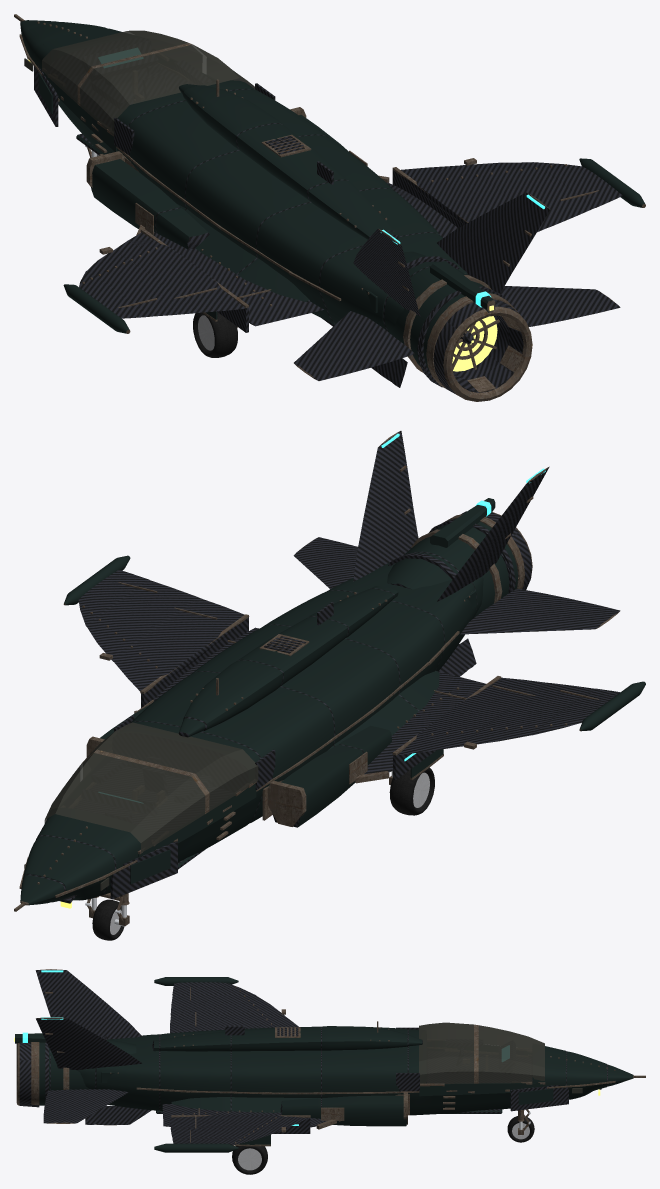
The picture shows the model from 3 angles, top to bottom: view 1: azimuth 30°, elevation 25°; view 2: azimuth 150°, elevation 25°; view 3: azimuth 270°, elevation 25°; orthographic projection. The views are drawn at different scales.
Visible parts, largest first — view 1: kb3_core, kb3_wing_r, kb3_wing_l, kb3_tail_r, kb3_tail_l, kb3_gear_down; view 2: kb3_core, kb3_wing_r, kb3_wing_l, kb3_tail_r, kb3_tail_l, kb3_gear_down; view 3: kb3_core, kb3_tail_r, kb3_wing_l, kb3_wing_r, kb3_tail_l, kb3_gear_down.
Boxes of the visible parts, x1,y1,x2,y2 form: kb3_core: (14, 14, 532, 401); kb3_wing_r: (392, 158, 645, 232); kb3_wing_l: (63, 228, 248, 333); kb3_tail_r: (437, 192, 620, 326); kb3_tail_l: (294, 229, 420, 380); kb3_gear_down: (85, 145, 237, 357); kb3_core: (14, 498, 532, 911); kb3_wing_r: (63, 555, 249, 707); kb3_wing_l: (392, 676, 645, 780); kb3_tail_r: (293, 431, 418, 589); kb3_tail_l: (437, 466, 620, 634); kb3_gear_down: (85, 749, 443, 940); kb3_core: (14, 1021, 645, 1129); kb3_tail_r: (36, 1017, 142, 1123); kb3_wing_l: (154, 977, 298, 1033); kb3_wing_r: (154, 1115, 310, 1152); kb3_tail_l: (35, 969, 142, 1039); kb3_gear_down: (232, 1109, 534, 1174).
Size of the model in its own units: 5.36 by 2.17 by 8.4.
Materials: 14 (7 with a texture image).
